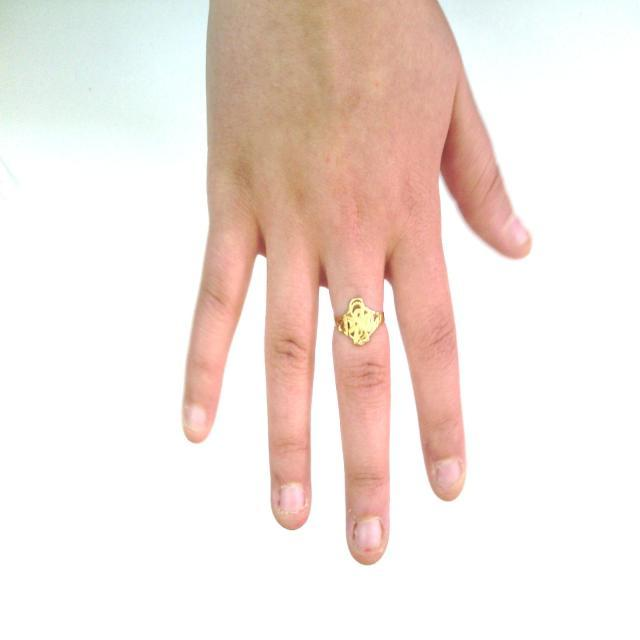Fingernail: (354, 518, 382, 553), (435, 460, 461, 492), (281, 484, 304, 513), (186, 406, 206, 433), (508, 219, 529, 243)
